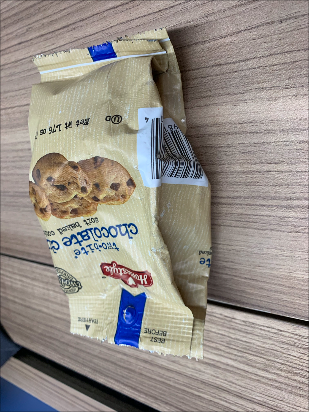Cookies_1-99g: (45, 113, 192, 294)
